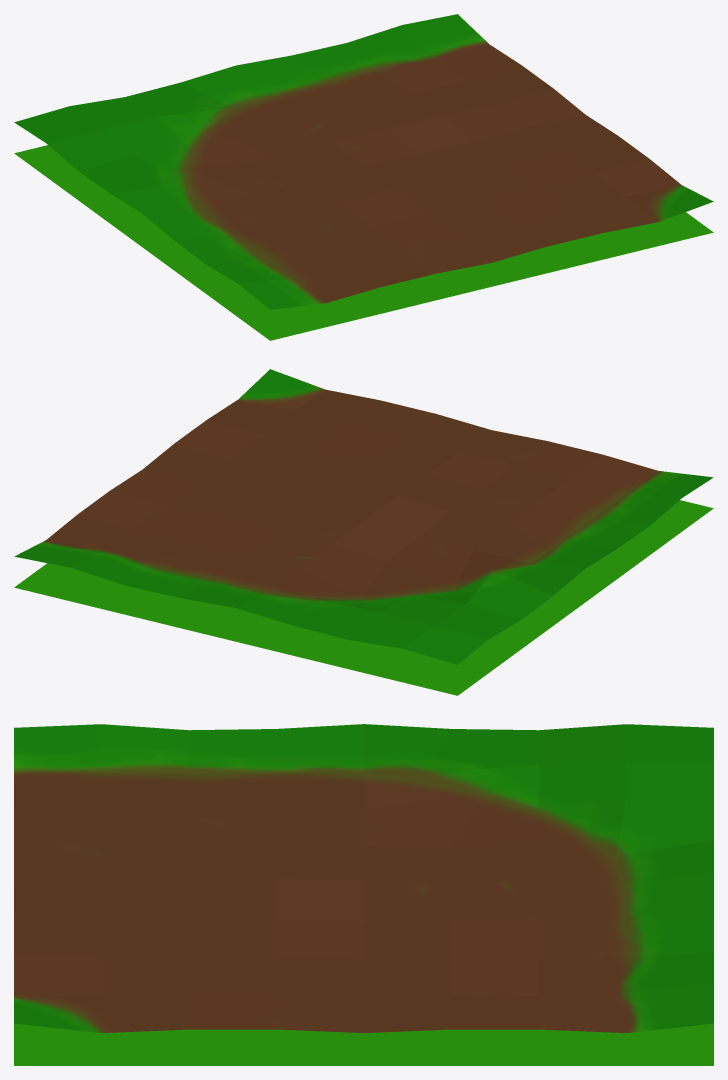
Rendered from CornerPathTile.fbx.
3 renders of one model, top to bottom at view 1: azimuth 30°, elevation 25°; view 2: azimuth 150°, elevation 25°; view 3: azimuth 270°, elevation 25°, orthographic. The views are drawn at different scales.
Visible parts, largest first — view 1: Cube; view 2: Cube; view 3: Cube.
Part boxes in pixels (box(x1,y1,x2,y2)): Cube: box(14, 14, 713, 340); Cube: box(14, 369, 713, 695); Cube: box(14, 724, 713, 1065).
Size of the model in its own units: 200 by 14.51 by 200.
